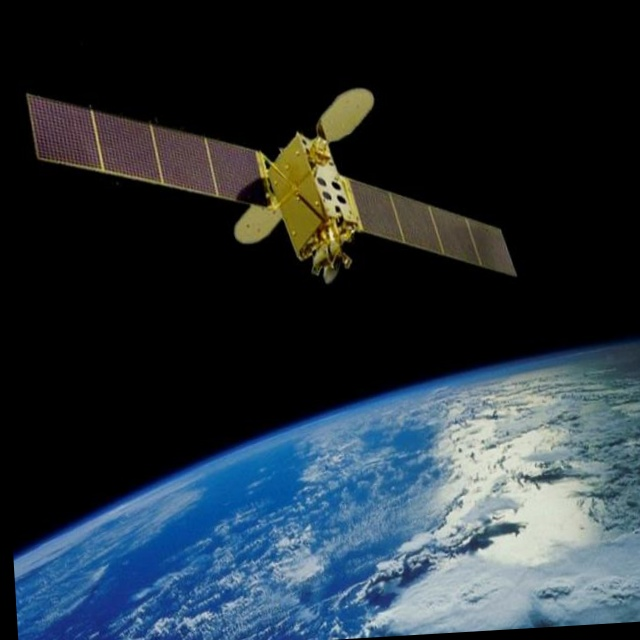satellite: (21, 67, 516, 314)
